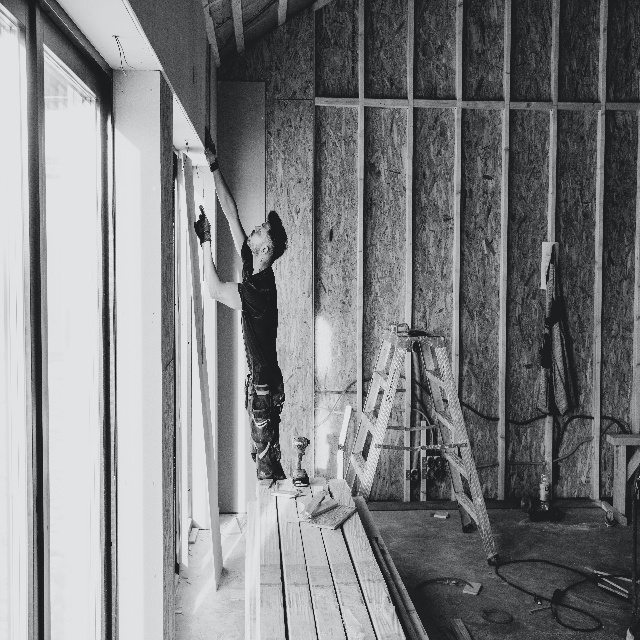Guantes: (194, 207, 216, 244), (203, 128, 218, 177)
